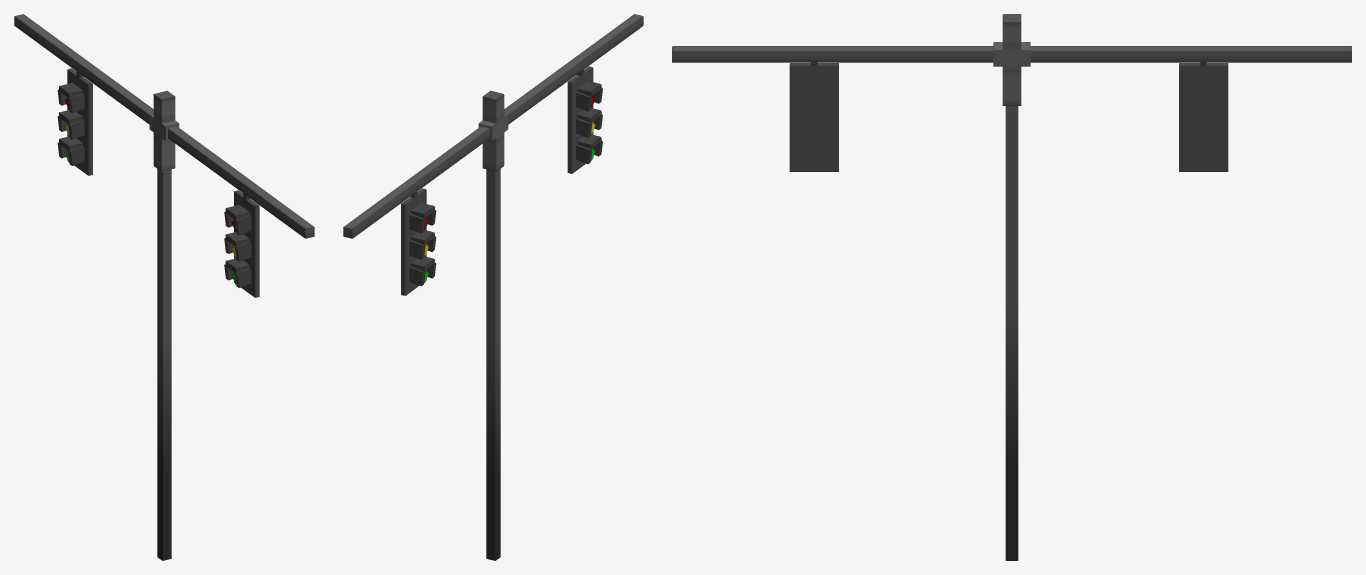
The model's file is traffic_lights_middle.obj.
3 renders of one model, left to right at view 1: azimuth 30°, elevation 25°; view 2: azimuth 150°, elevation 25°; view 3: azimuth 270°, elevation 25°, orthographic. The views are drawn at different scales.
Visible parts, largest first — view 1: baseModel0, baseModel2, baseModel1, baseModel29, baseModel4; view 2: baseModel0, baseModel2, baseModel1, baseModel29, baseModel4; view 3: baseModel2, baseModel0, baseModel4, baseModel29, baseModel1.
Boxes of the visible parts, x1,y1,x2,y2 form: baseModel0: (157,99,171,560); baseModel2: (14,14,314,238); baseModel1: (153,90,175,171); baseModel29: (234,190,259,297); baseModel4: (67,68,92,175); baseModel0: (486,169,500,560); baseModel2: (343,14,643,238); baseModel1: (482,90,504,171); baseModel29: (567,66,593,173); baseModel4: (401,188,426,295); baseModel2: (672,46,1351,62); baseModel0: (1005,106,1018,560); baseModel4: (1179,63,1228,171); baseModel29: (789,63,838,171); baseModel1: (1002,14,1021,105).
Size of the model in its own units: 0.3444 by 6.03 by 6.88.
1 material, 1 textured.
